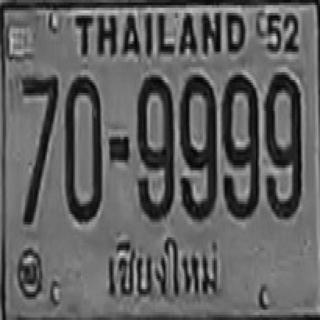N00: (64, 75, 102, 222)
N07: (21, 74, 58, 223), (21, 75, 58, 181)
N09: (136, 72, 173, 219), (264, 70, 301, 217), (222, 72, 258, 217), (180, 74, 216, 218)
P11: (98, 231, 227, 310)
